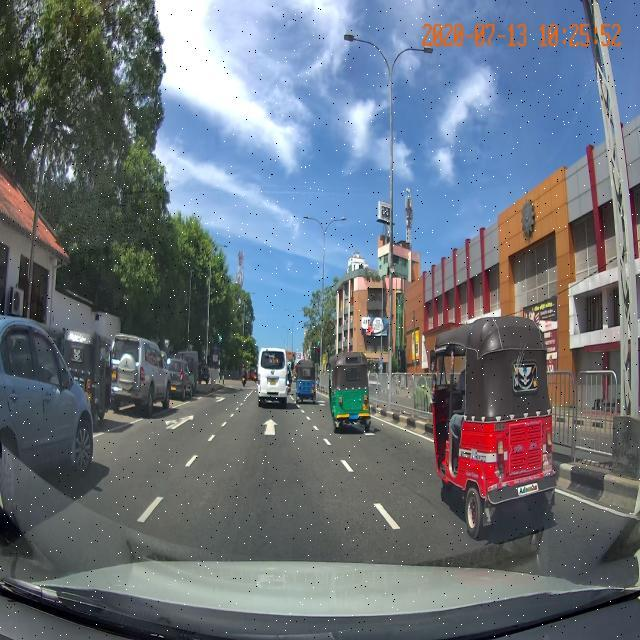forward: (212, 415, 325, 435)
